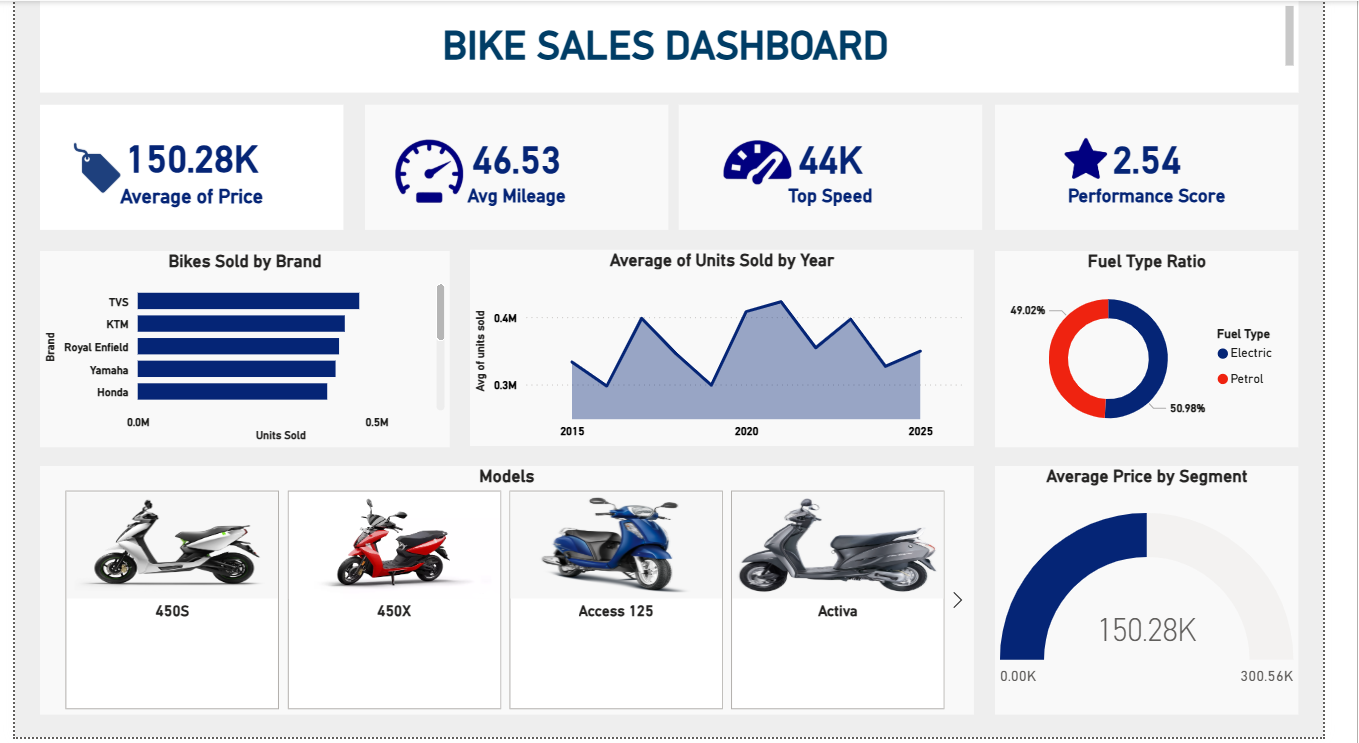

The page's visual inventory and layout, read from the dashboard file:
{"tool":"powerbi","page":{"name":"none","canvas":[1280,720],"ordinal":0},"visuals":[{"type":"card","fields":{"Values":["Avg(Bike Sales Data.Performance_Score)"]},"box":[958.7,101.5,297.1,122.3],"z":0},{"type":"card","fields":{"Values":["Sum(Bike Sales Data.Top_Speed)"]},"box":[649.3,101.5,297.1,122.3],"z":1000},{"type":"card","fields":{"Values":["Avg(Bike Sales Data.Mileage)"]},"box":[342.4,101.5,297.1,122.3],"z":2000},{"type":"card","fields":{"Values":["Avg(Bike Sales Data.Price)"]},"box":[24.5,101.5,297.1,122.3],"z":3000},{"type":"donutChart","title":"Fuel Type Ratio","fields":{"Category":["Bike Sales Data.Fuel_Type"],"Y":["Avg(Bike Sales Data.Top_Speed)"]},"box":[958.7,244.6,297.1,192],"z":4000},{"type":"barChart","title":"Bikes Sold by Brand","fields":{"Category":["Bike Sales Data.Brand"],"Y":["Avg(Bike Sales Data.Units_Sold)"]},"box":[24.5,244.6,401.1,192],"z":5000},{"type":"gauge","title":"Average Price by Segment","fields":{"Y":["Avg(Bike Sales Data.Price)"]},"box":[958.7,454.9,297.1,243.3],"z":6000},{"type":"textbox","box":[24.5,0,1231.4,89.3],"z":7000},{"type":"advancedSlicerVisual","title":"Models","fields":{"Values":["Bike Sales Data.Model"]},"box":[24.5,454.9,913.5,243.3],"z":8000},{"type":"stackedAreaChart","title":"Average of Units Sold by Year","fields":{"Category":["Bike Sales Data.Year"],"Y":["Avg(Bike Sales Data.Units_Sold)"]},"box":[445.1,243.3,492.8,192],"z":9000},{"type":"image","box":[1005.2,128.4,84.4,51.4],"z":10000},{"type":"image","box":[39.1,130.8,83.2,64.8],"z":11000},{"type":"image","box":[365.6,128.4,79.5,75.8],"z":12000},{"type":"image","box":[681.1,119.8,90.5,75.8],"z":13000}]}

Visuals, with their boxes in screenshot pixels (x1, y1, x2, y2), scaled from the page's 1280x720 canvas onto the 1359x743 screenshot:
card - Avg(Bike Sales Data.Performance_Score): rect(1018, 105, 1333, 231)
card - Sum(Bike Sales Data.Top_Speed): rect(689, 105, 1005, 231)
card - Avg(Bike Sales Data.Mileage): rect(364, 105, 679, 231)
card - Avg(Bike Sales Data.Price): rect(26, 105, 341, 231)
"Fuel Type Ratio" donutChart: rect(1018, 252, 1333, 451)
"Bikes Sold by Brand" barChart: rect(26, 252, 452, 451)
"Average Price by Segment" gauge: rect(1018, 469, 1333, 721)
textbox: rect(26, 0, 1333, 92)
"Models" advancedSlicerVisual: rect(26, 469, 996, 721)
"Average of Units Sold by Year" stackedAreaChart: rect(473, 251, 996, 449)
image: rect(1067, 133, 1157, 186)
image: rect(42, 135, 130, 202)
image: rect(388, 133, 473, 211)
image: rect(723, 124, 819, 202)
